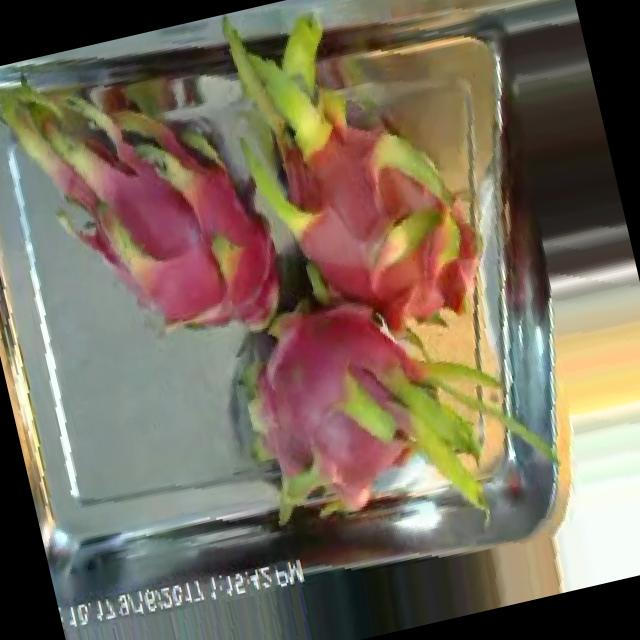Fruit: (460, 35, 631, 272)
